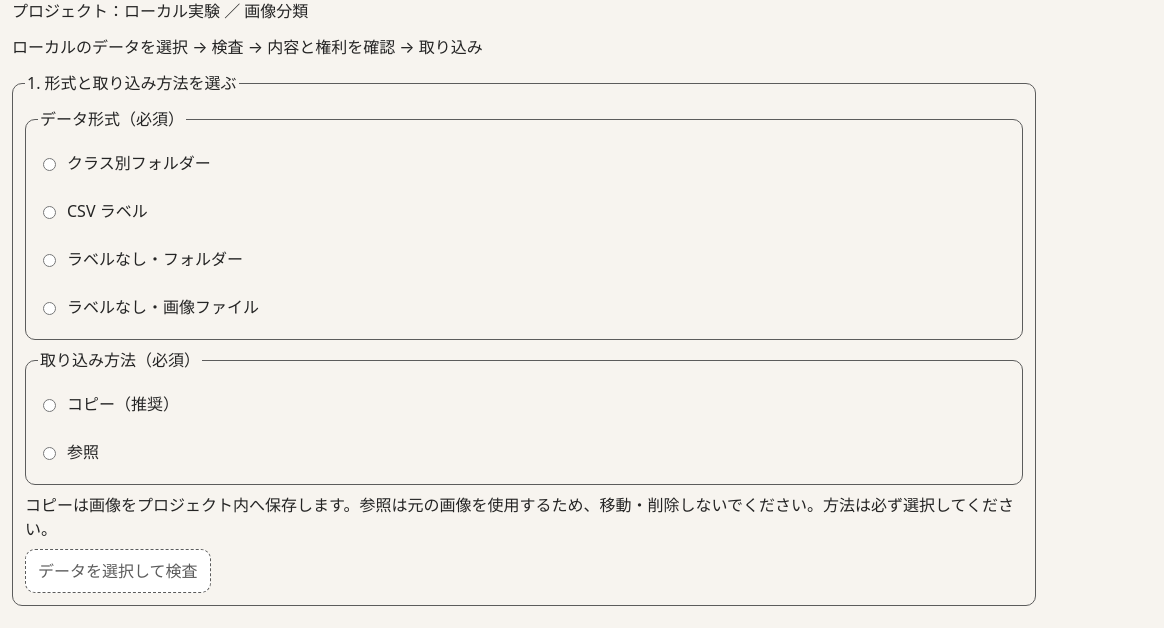
Test: ImportPage UIR024 / DAT09 › requires explicit choices and consent for copy, with no automatic actions
Expected: the button "データを選択して検査" is disabled, [25,549,210,593]
Click the radio button labelled "クラス別フォルダー".
click(50, 164)  # box [43,158,56,171]
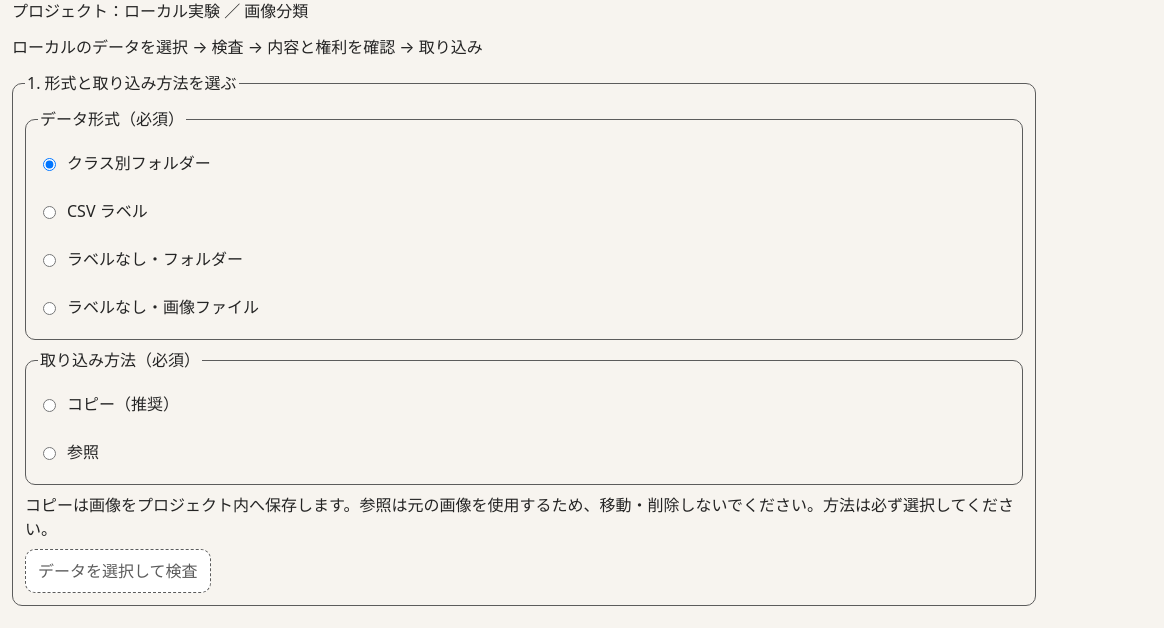
Click the radio button labelled "コピー（推奨）".
click(50, 406)  # box [43,399,56,412]
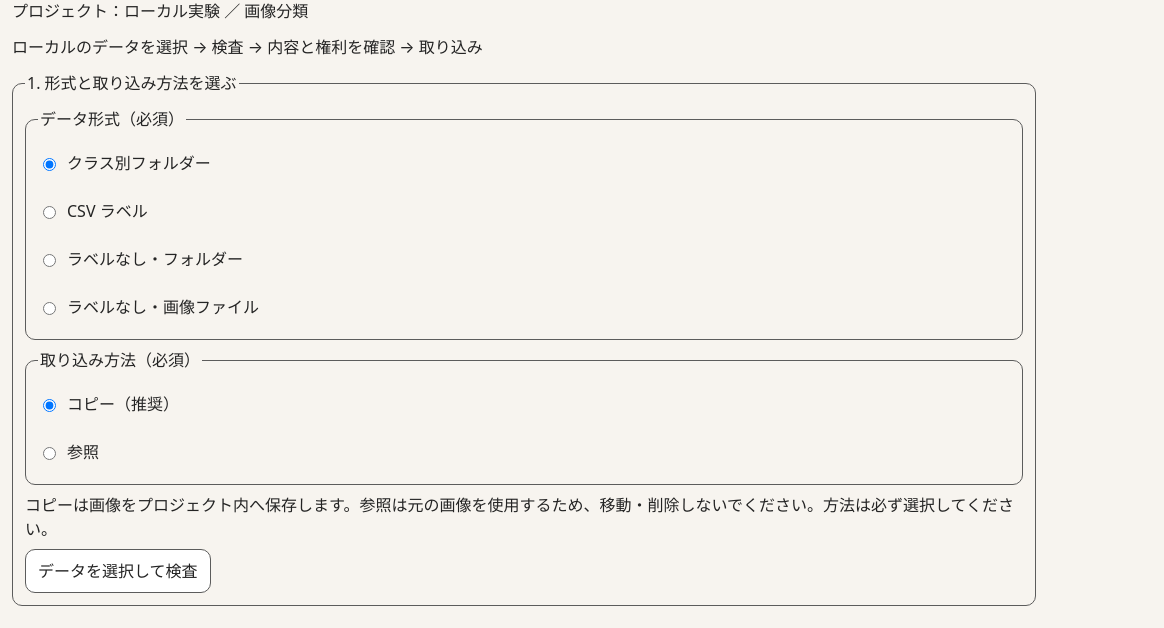
Click the button "データを選択して検査".
click(118, 571)  # box [25,549,210,593]
(page scrolled)
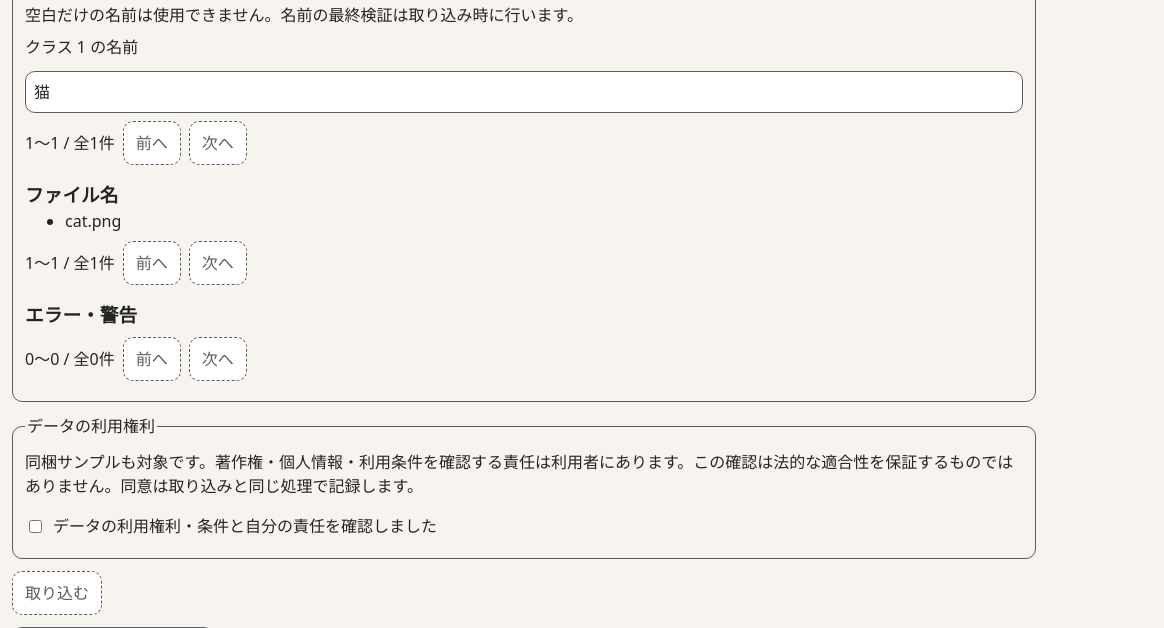
Expected: the checkbox labelled "データの利用権利・条件と自分の責任を確認しました" is not checked
Expected: the button "取り込む" is disabled, [12,571,102,615]
Expected: the text "法的な適合性を保証するものではありません" is shown, [25,451,1013,497]
Click the checkbox labelled "データの利用権利・条件と自分の責任を確認しました".
click(36, 526)  # box [29,520,42,533]
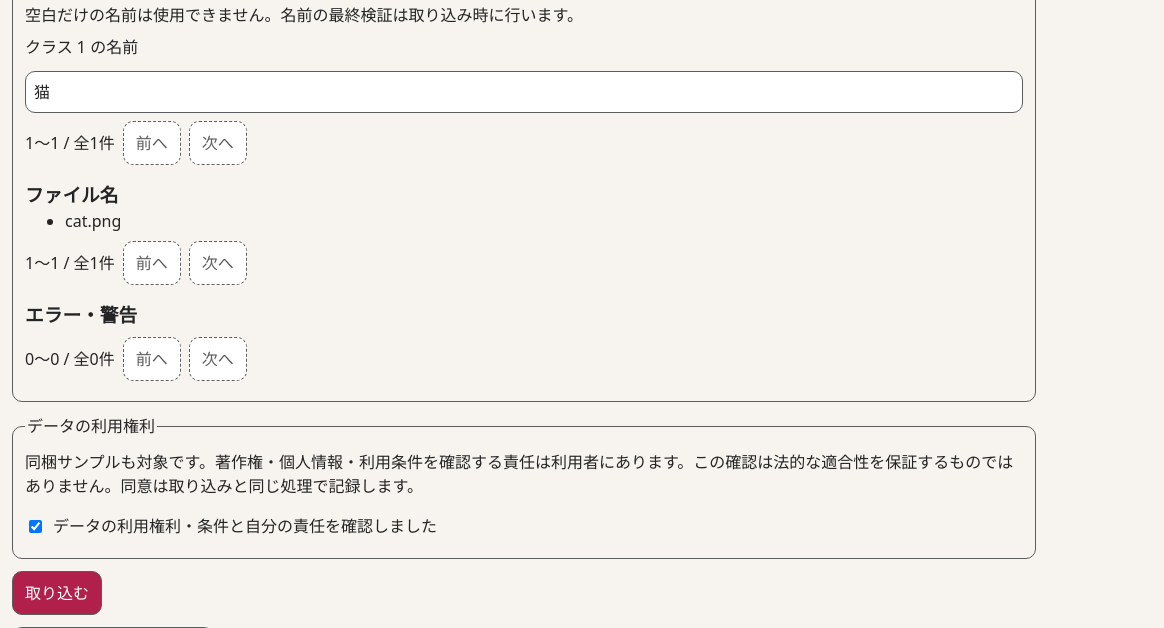
Click the button "取り込む".
click(57, 593)  # box [12,571,102,615]
(page scrolled)
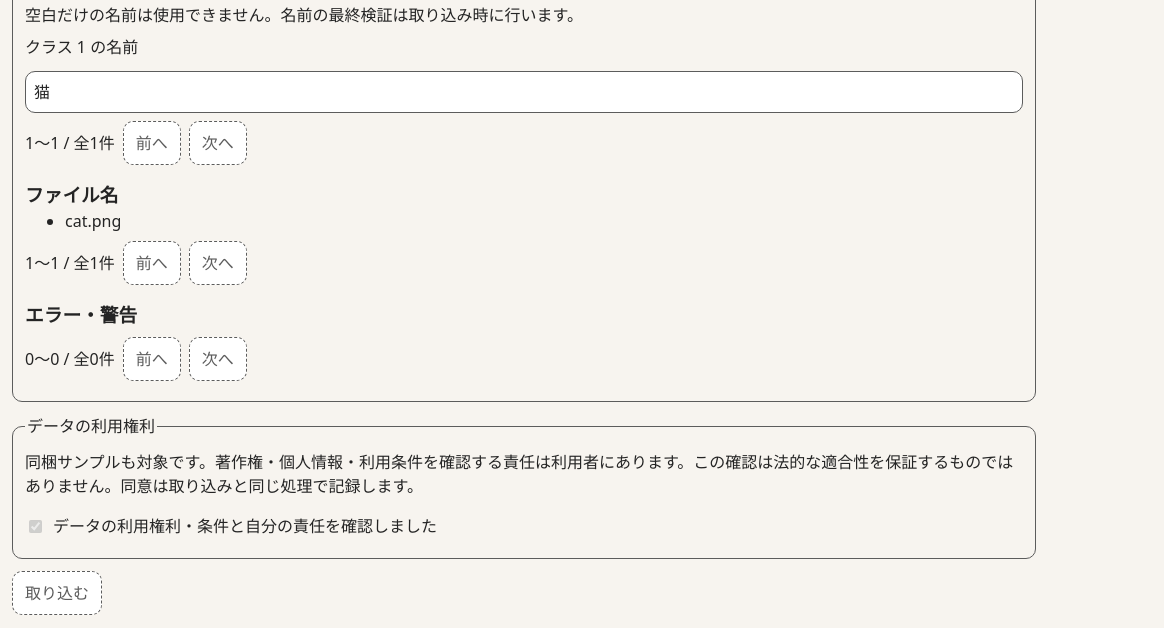
Expected: the button "取り込む" is disabled, [12,571,102,615]
